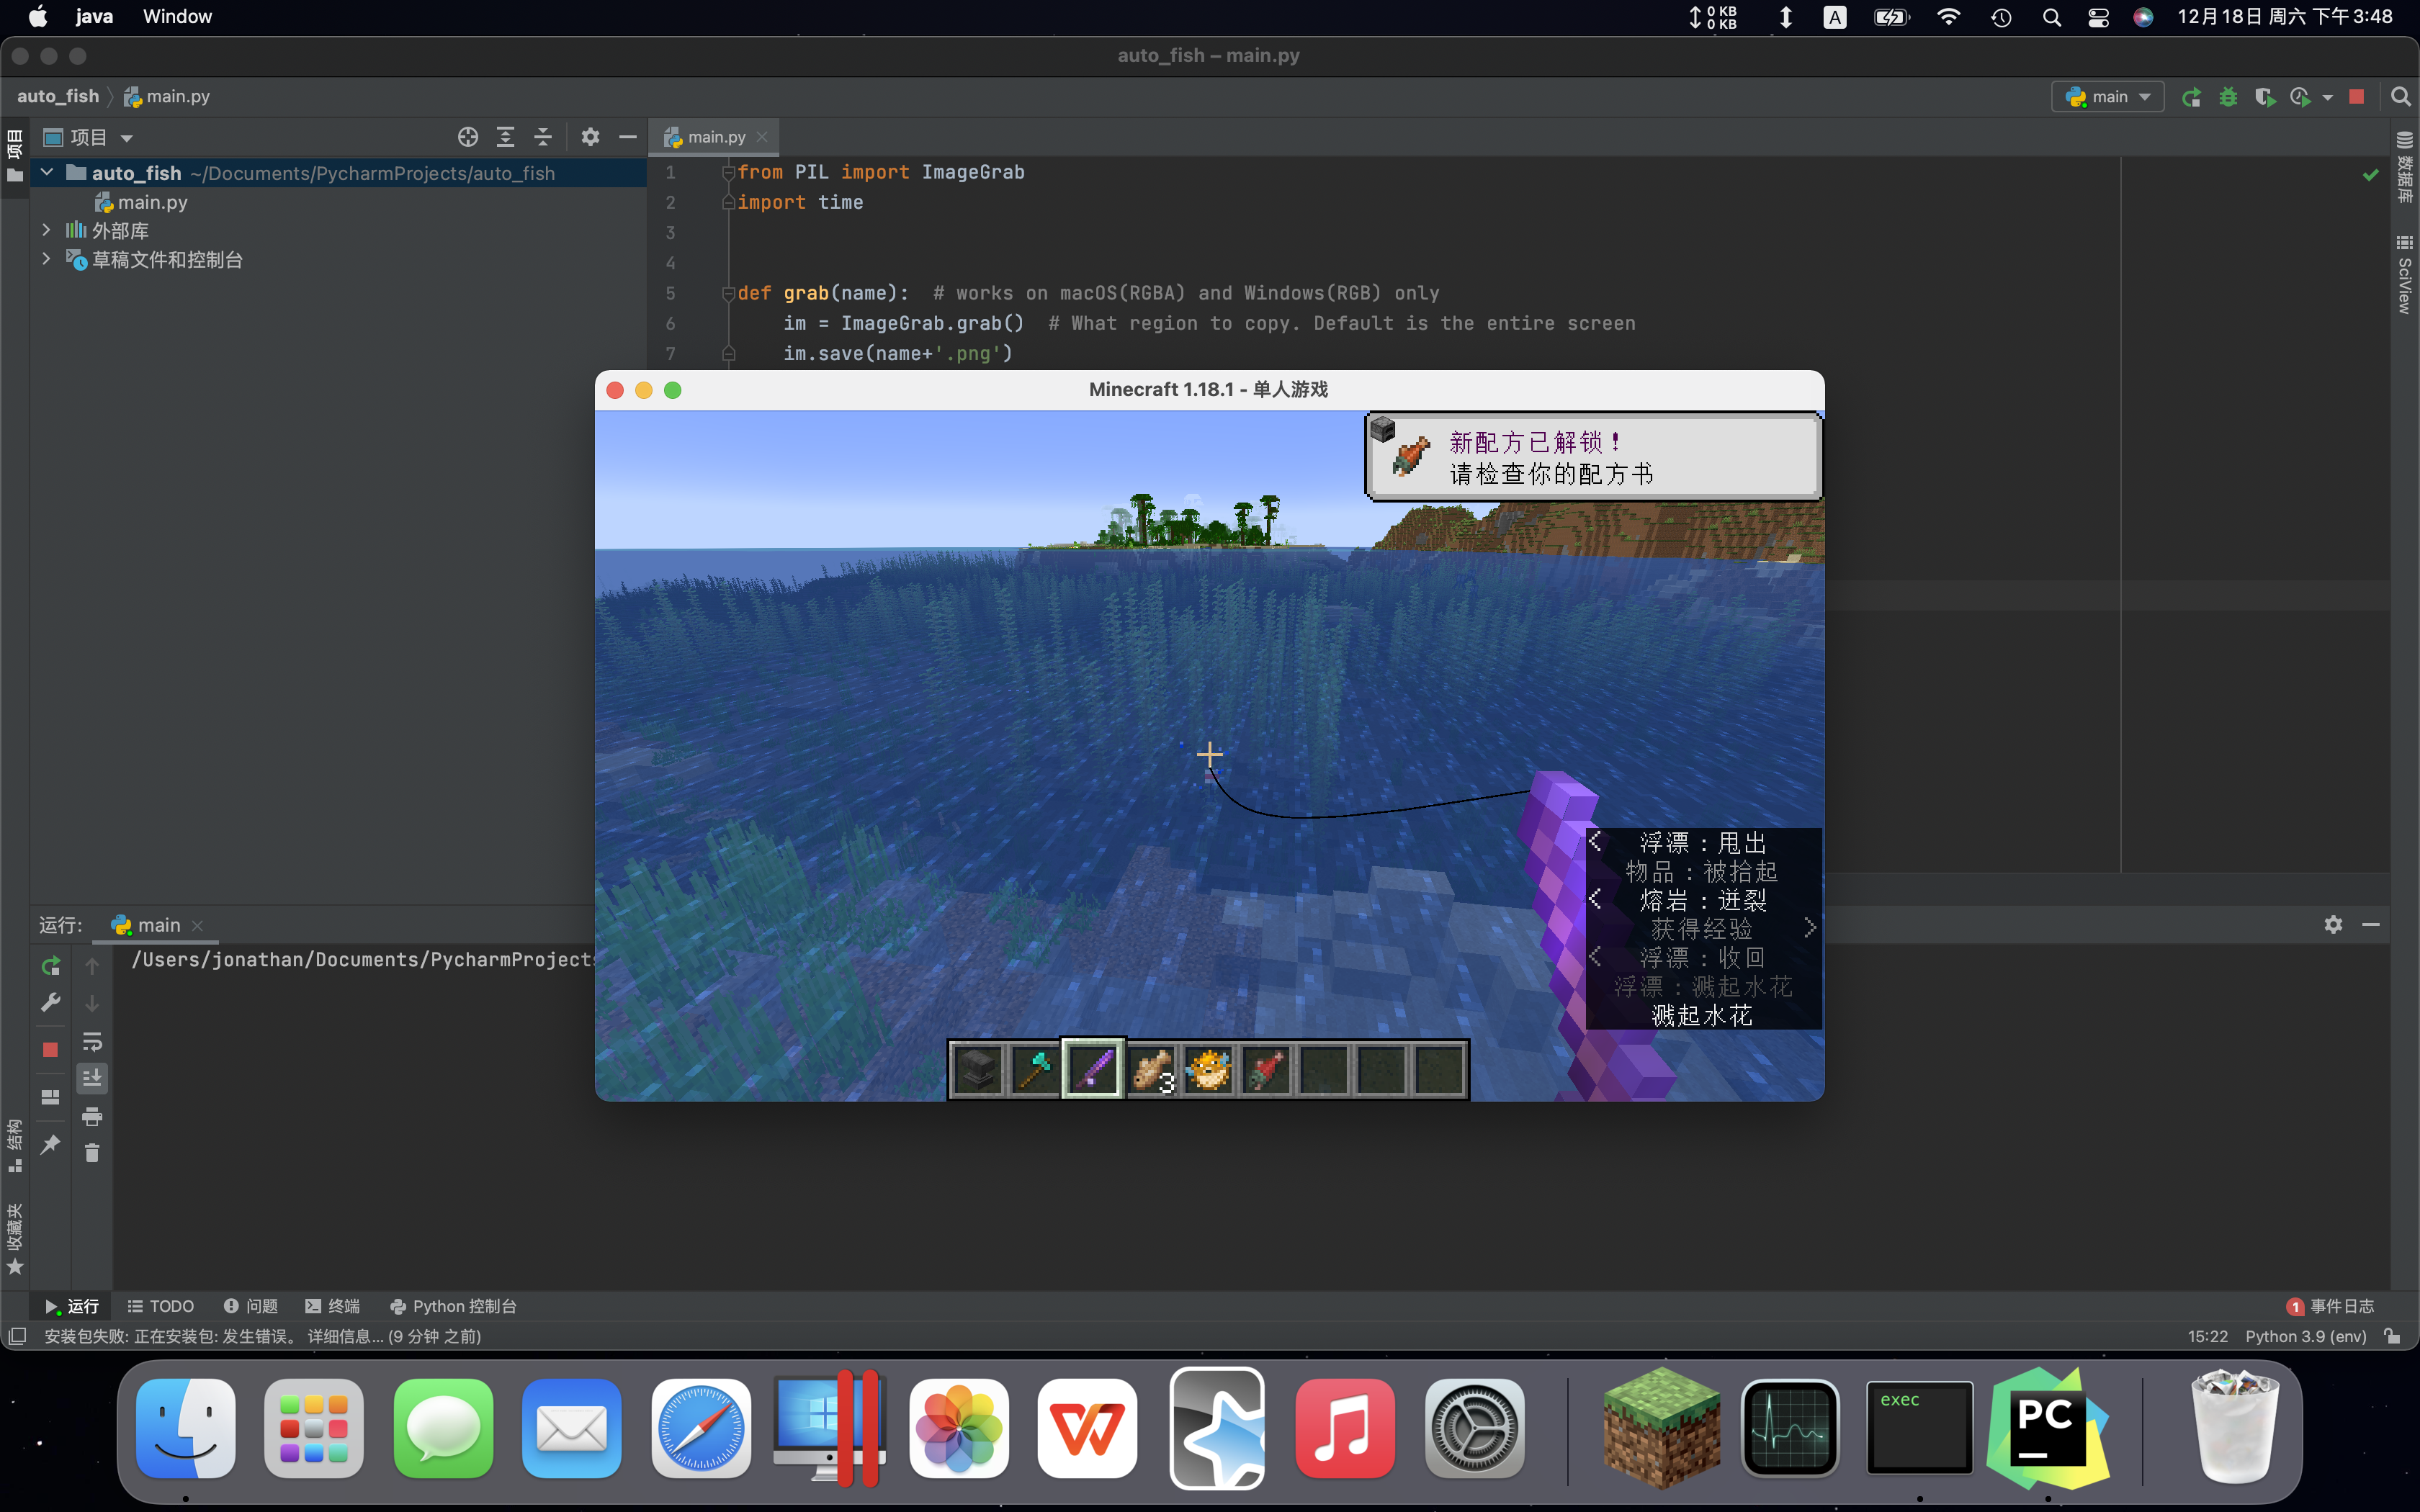inf: (1589, 827, 1822, 1028)
